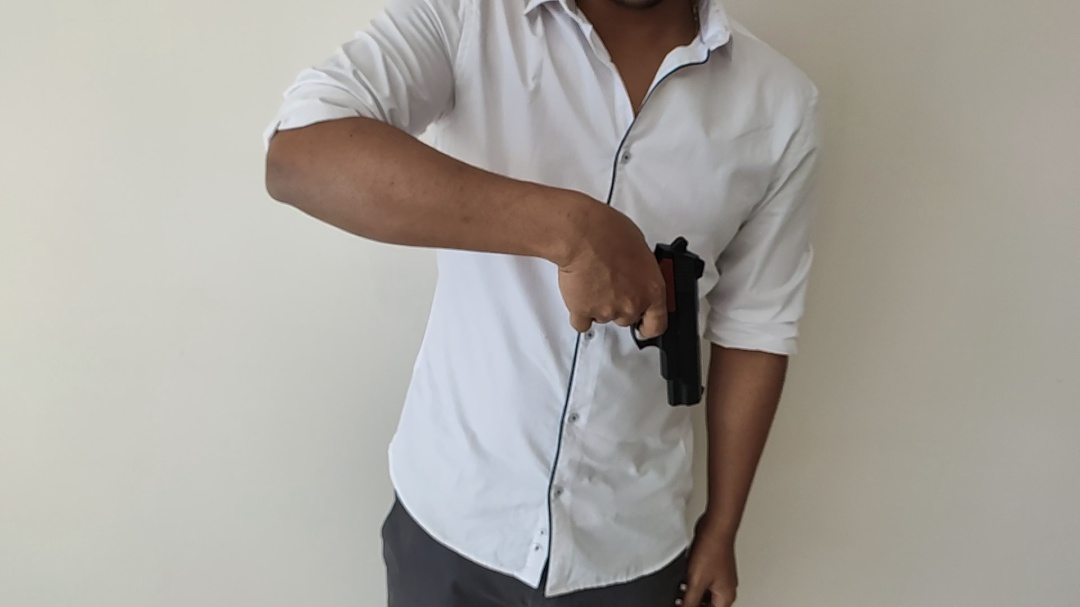gun: (631, 235, 709, 406)
